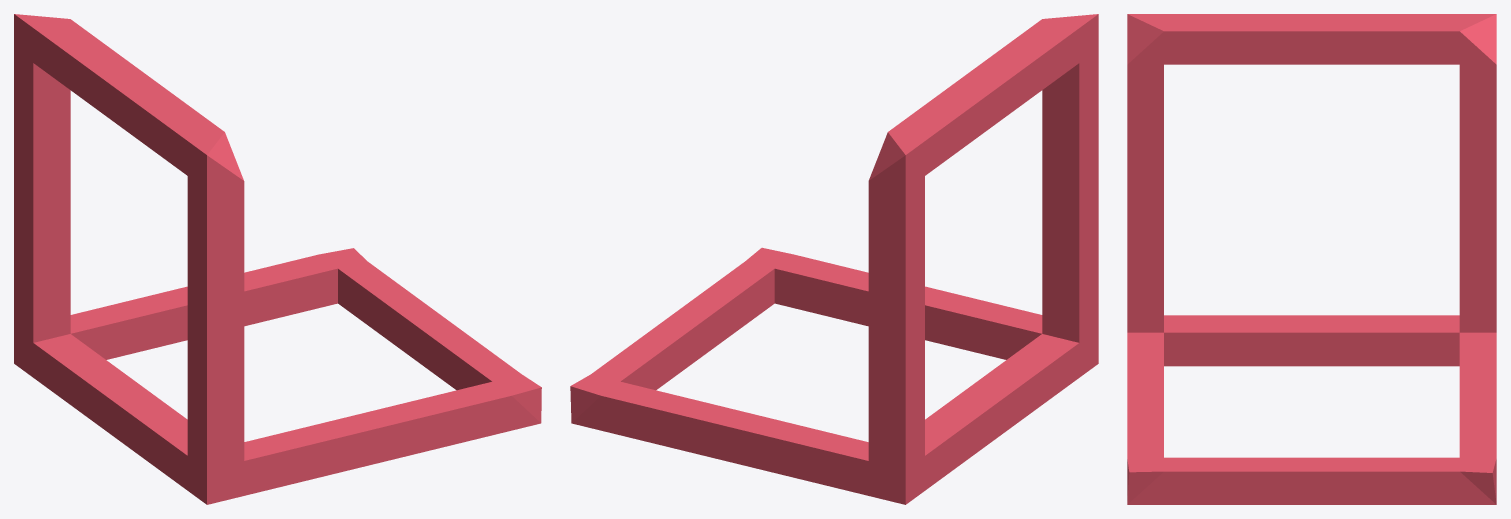
Rendered from thing.fbx.
The picture shows the model from 3 angles, left to right: view 1: azimuth 30°, elevation 25°; view 2: azimuth 150°, elevation 25°; view 3: azimuth 270°, elevation 25°; orthographic projection. The views are drawn at different scales.
Visible parts, largest first — view 1: obj_0.002; view 2: obj_0.002; view 3: obj_0.002.
Part boxes in pixels (x1,y1,x2,y2): obj_0.002: (14, 14, 541, 504); obj_0.002: (570, 14, 1098, 504); obj_0.002: (1127, 14, 1496, 504).
Size of the model in its own units: 71.91 by 71.21 by 71.21.
